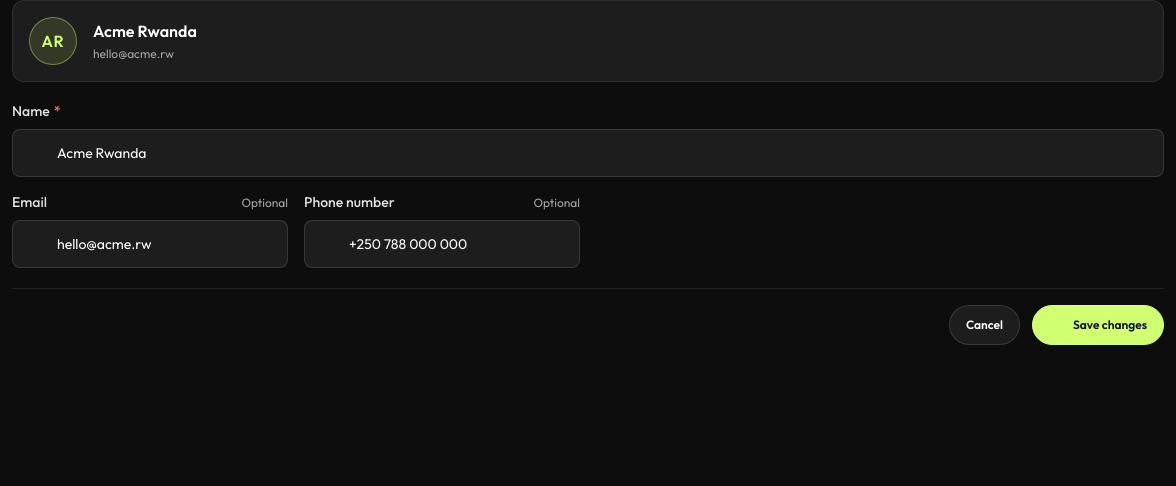
Test: ClientForm › maps backend validation fields to the matching control
Step 1. Click the button "Save changes" → (1098, 325), box x1=1032 y1=305 x2=1164 y2=345
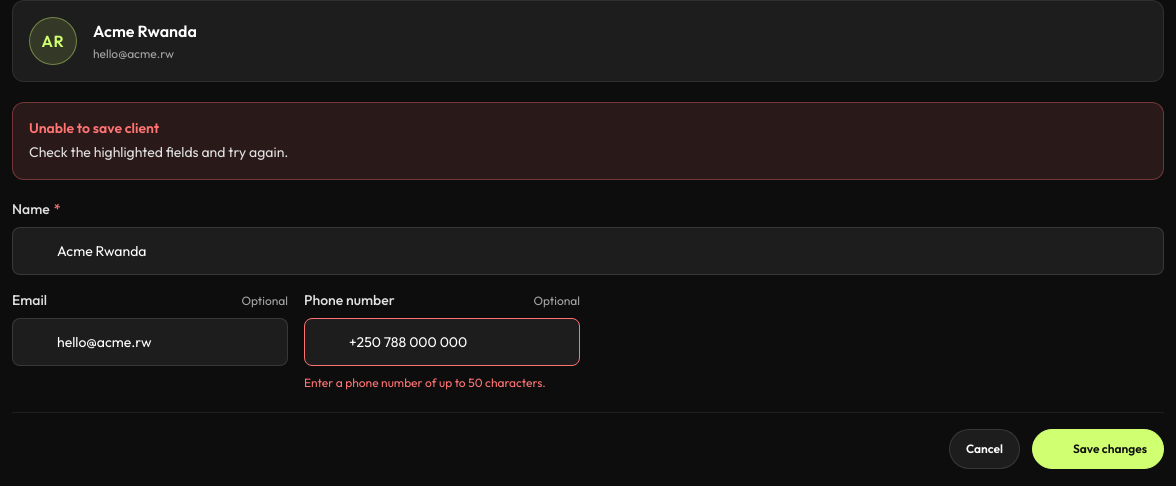
Result: the text "Check the highlighted fields and try again." is shown at x1=29 y1=143 x2=288 y2=161
